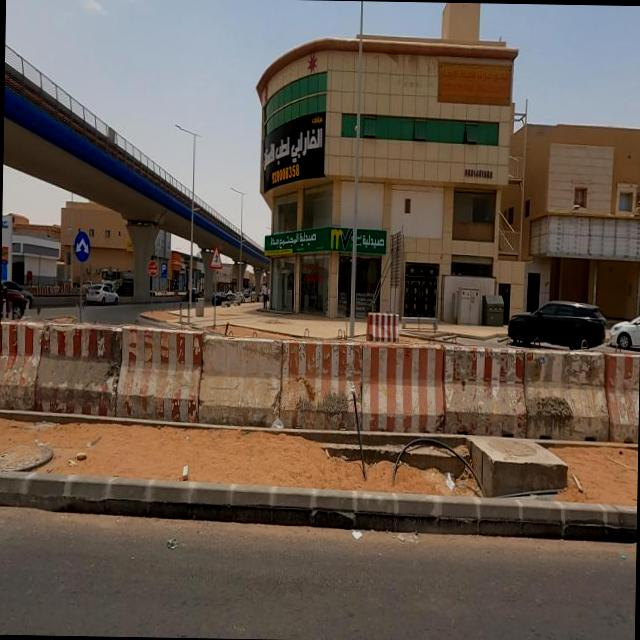debris: (416, 439, 479, 522), (148, 428, 210, 507), (56, 432, 105, 477)
